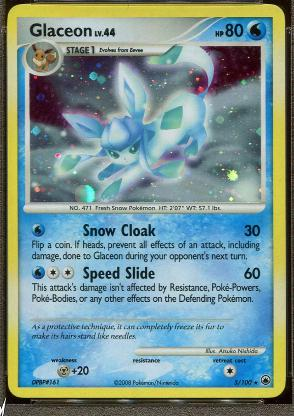Card: (6, 1, 286, 401)
